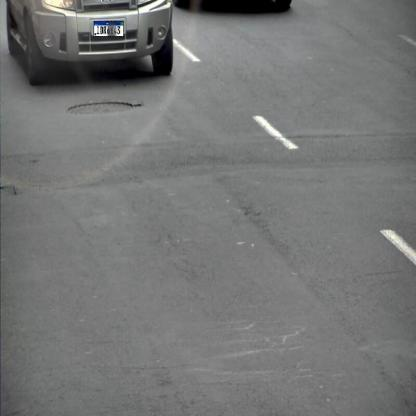PlacaM: (94, 21, 124, 37)
